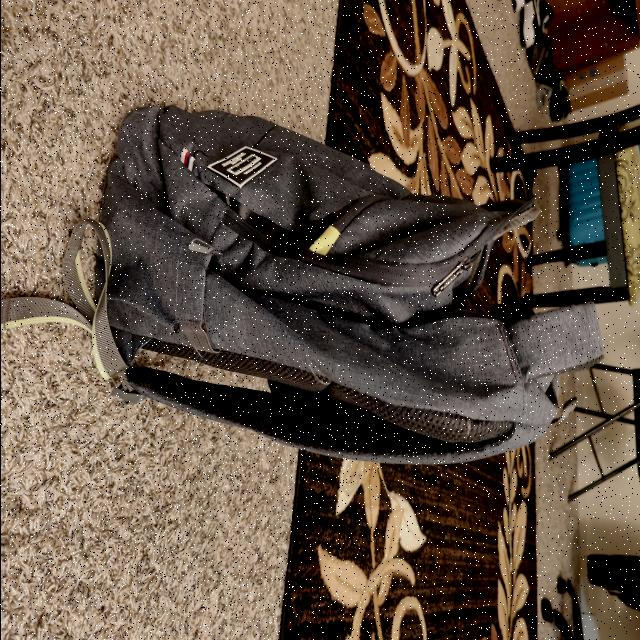bag: (109, 112, 599, 461)
